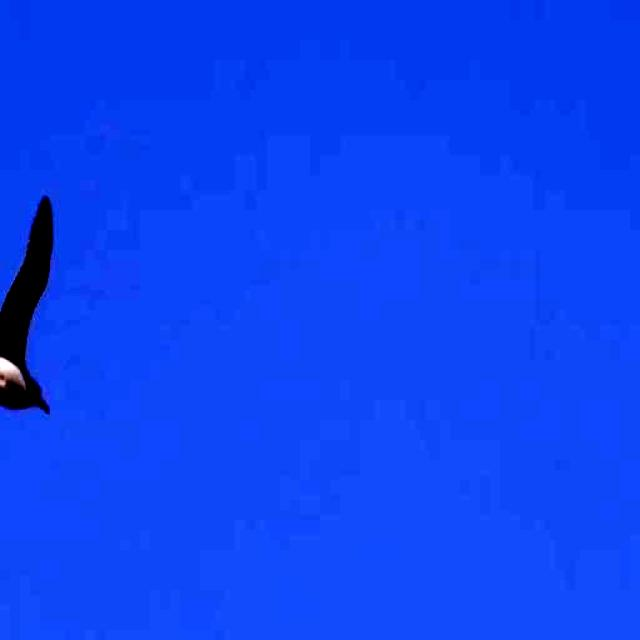airplane: (0, 196, 59, 515)
